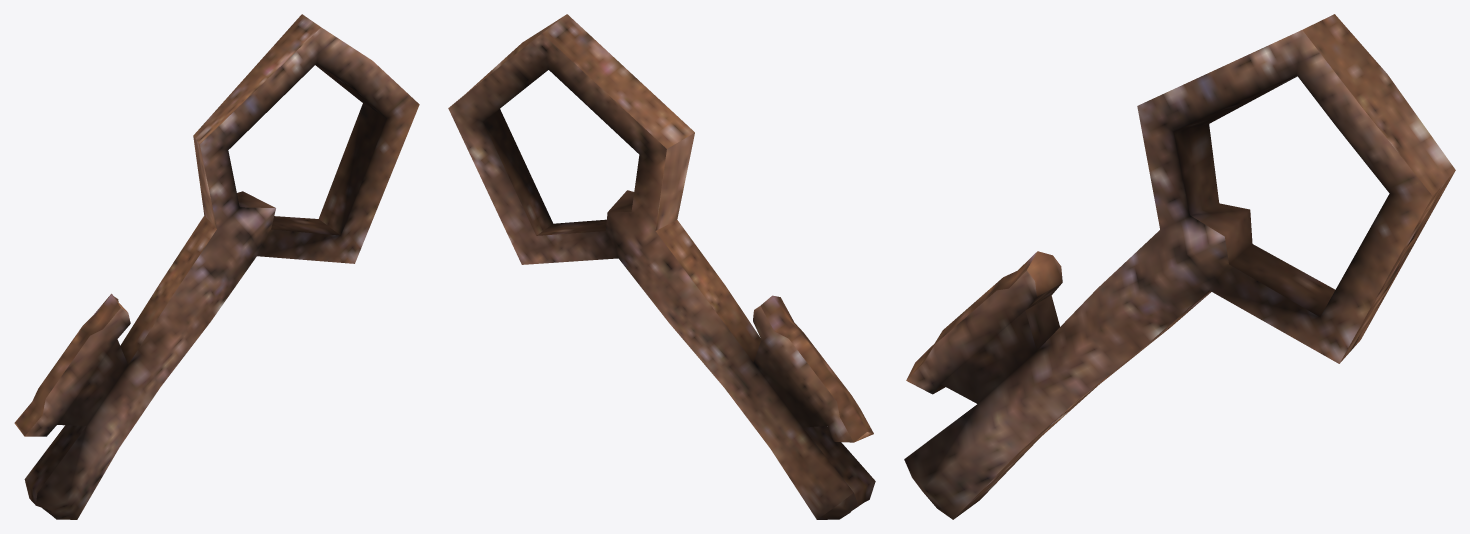
File: key.glb
The picture shows the model from 3 angles, left to right: view 1: azimuth 30°, elevation 25°; view 2: azimuth 150°, elevation 25°; view 3: azimuth 330°, elevation 25°; orthographic projection. The views are drawn at different scales.
Parts seen in each view (by area): view 1: key; view 2: key; view 3: key.
Boxes of the visible parts, x1,y1,x2,y2 form: key: [14, 14, 419, 519]; key: [448, 14, 875, 519]; key: [904, 14, 1455, 519].
Bounding box in the file's own units: 0.8892 × 0.9082 × 0.1532.
Materials: 1 (1 with a texture image).
